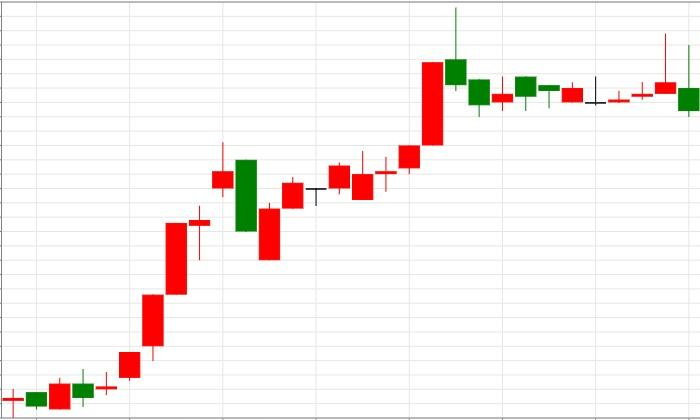shooting_star_fall: (258, 7, 467, 261)
